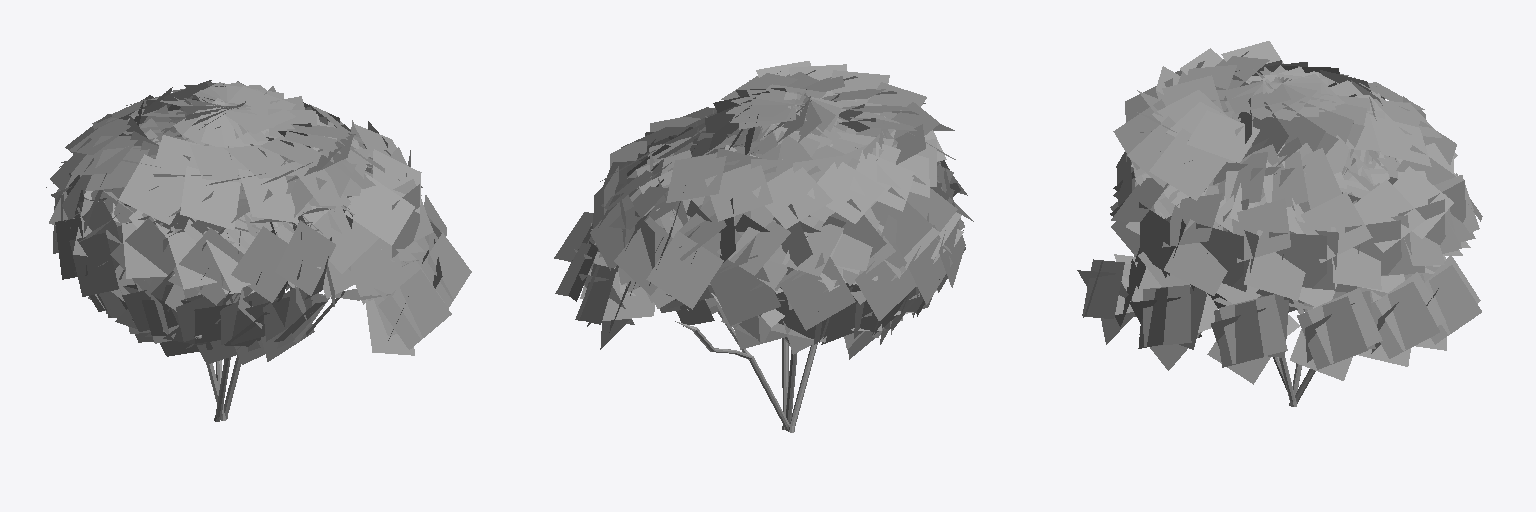
Rendered from savannahTreetigg.obj.
3 renders of one model, left to right at view 1: azimuth 30°, elevation 25°; view 2: azimuth 150°, elevation 25°; view 3: azimuth 270°, elevation 25°, orthographic.
Parts seen in each view (by area): view 1: mesh0_mesh0.007; view 2: mesh0_mesh0.007; view 3: mesh0_mesh0.007.
Part boxes in pixels (bbox=[...]): mesh0_mesh0.007: bbox=[46, 80, 471, 421]; mesh0_mesh0.007: bbox=[554, 61, 973, 432]; mesh0_mesh0.007: bbox=[1077, 41, 1482, 406].
Bounding box in the file's own units: 129 × 110 × 123.